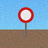sign: (18, 7, 34, 37)
